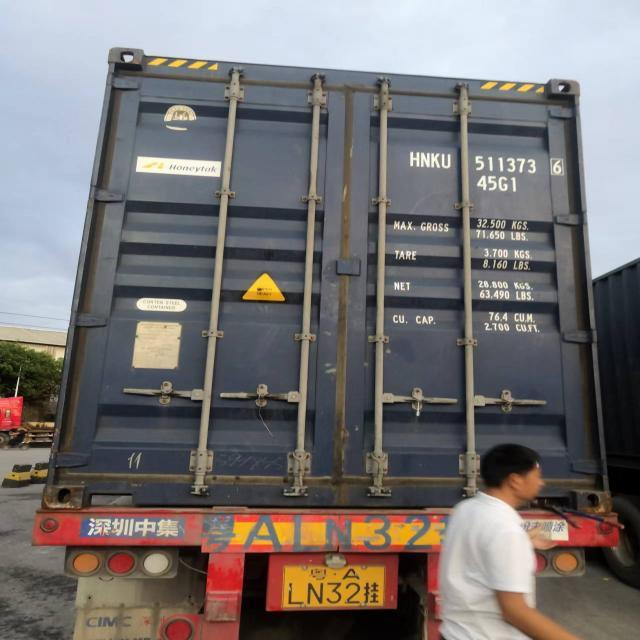ISO: (477, 174, 519, 193)
container_number: (411, 153, 568, 175)
